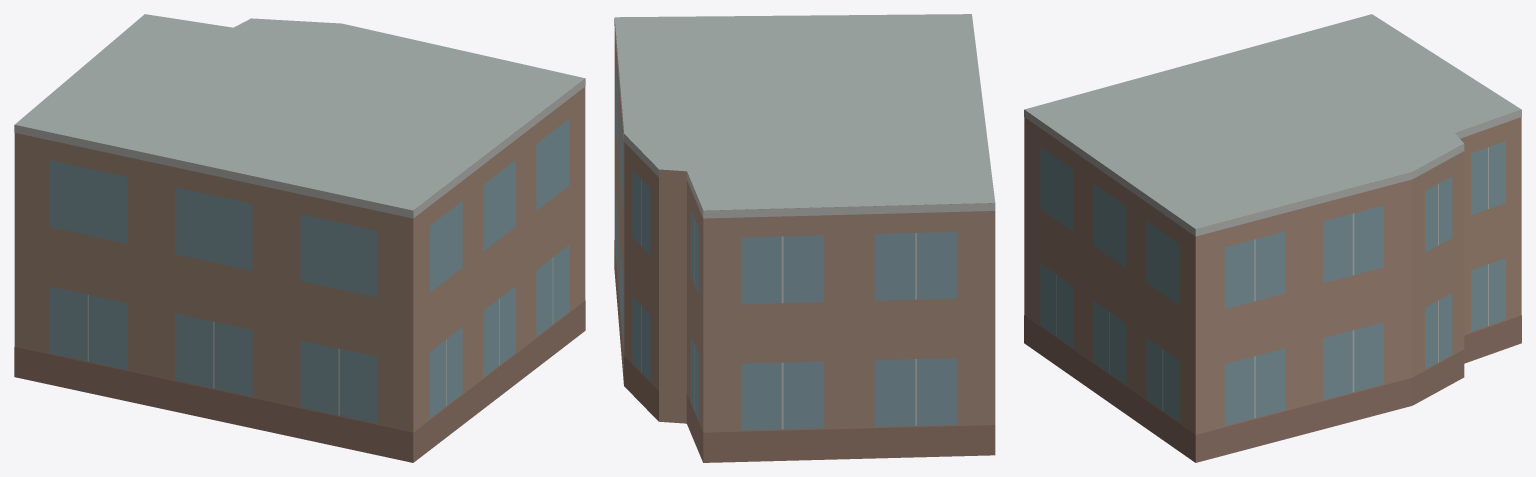
The model's file is survey-upis-32629230.glb.
The picture shows the model from 3 angles, left to right: view 1: azimuth 30°, elevation 25°; view 2: azimuth 150°, elevation 25°; view 3: azimuth 270°, elevation 25°; orthographic projection. The views are drawn at different scales.
Parts seen in each view (by area): view 1: survey-upis-32629230.tmp; view 2: survey-upis-32629230.tmp; view 3: survey-upis-32629230.tmp.
Boxes of the visible parts, bbox=[...] form: survey-upis-32629230.tmp: bbox=[14, 14, 585, 462]; survey-upis-32629230.tmp: bbox=[614, 14, 995, 462]; survey-upis-32629230.tmp: bbox=[1024, 14, 1521, 462].
Size of the model in its own units: 15.21 by 7.7 by 14.86.
